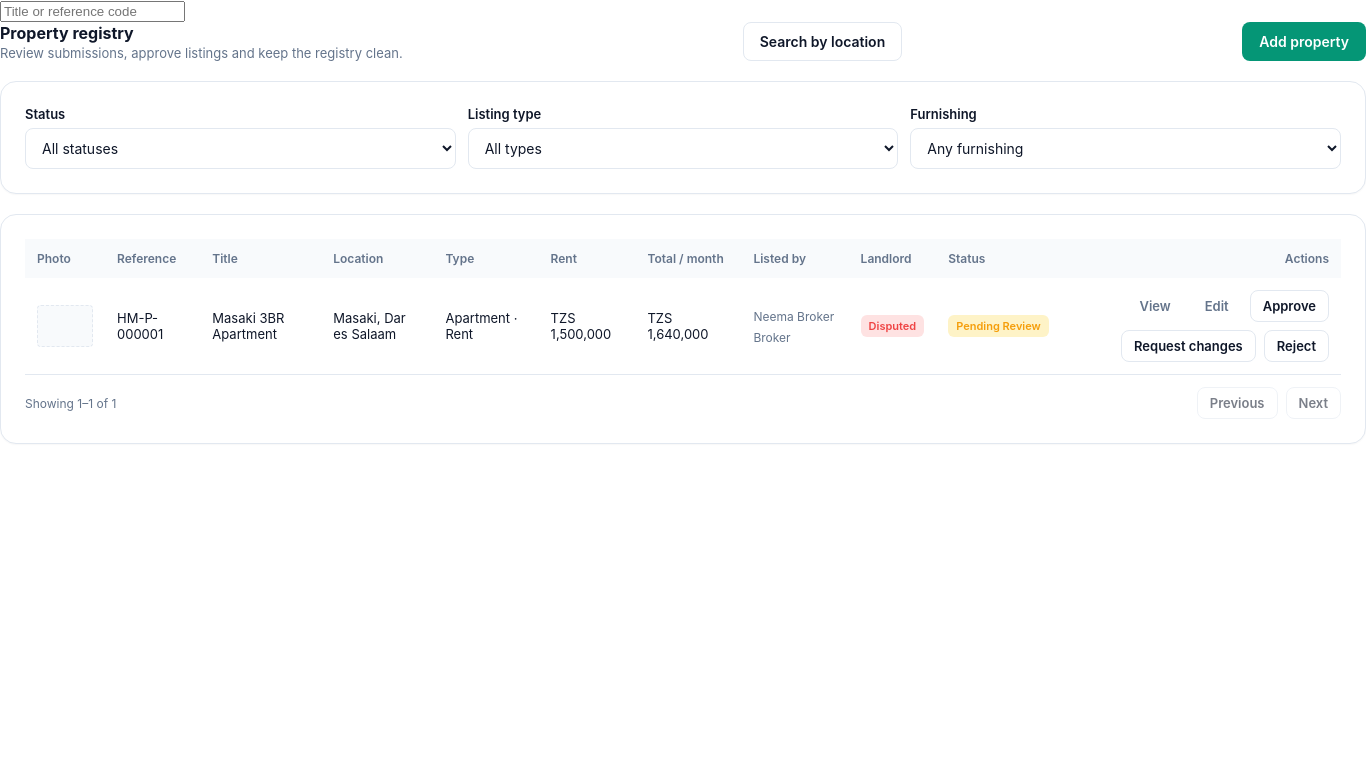
Scenario: PropertiesPage › surfaces a server-refused transition instead of pretending it worked
The image size is (1366, 768).
Check: the text "Masaki 3BR Apartment" is shown, box x1=200 y1=278 x2=321 y2=374
Click the button "Approve". click: [1289, 306]
box: x1=1250 y1=290 x2=1329 y2=322
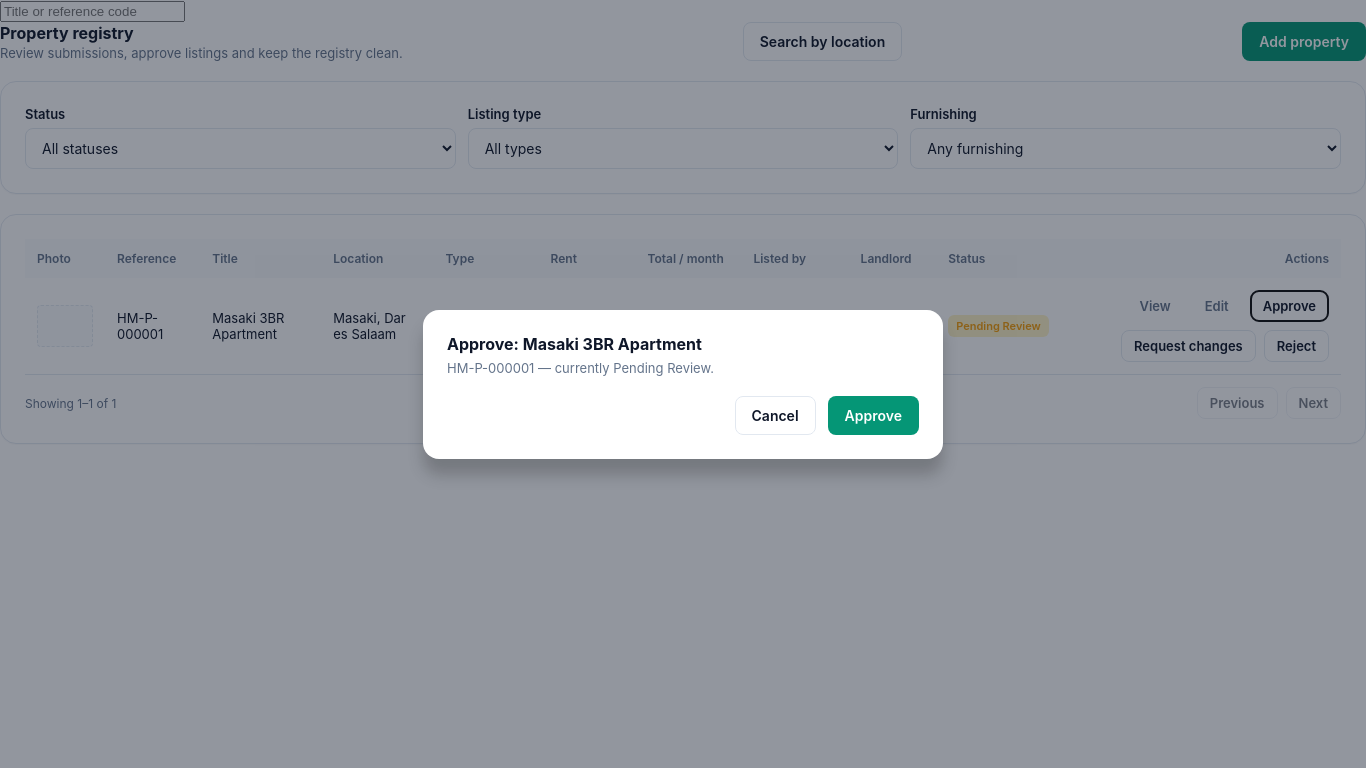
Click the button "Approve". click: [873, 415]
box: x1=828 y1=396 x2=919 y2=434
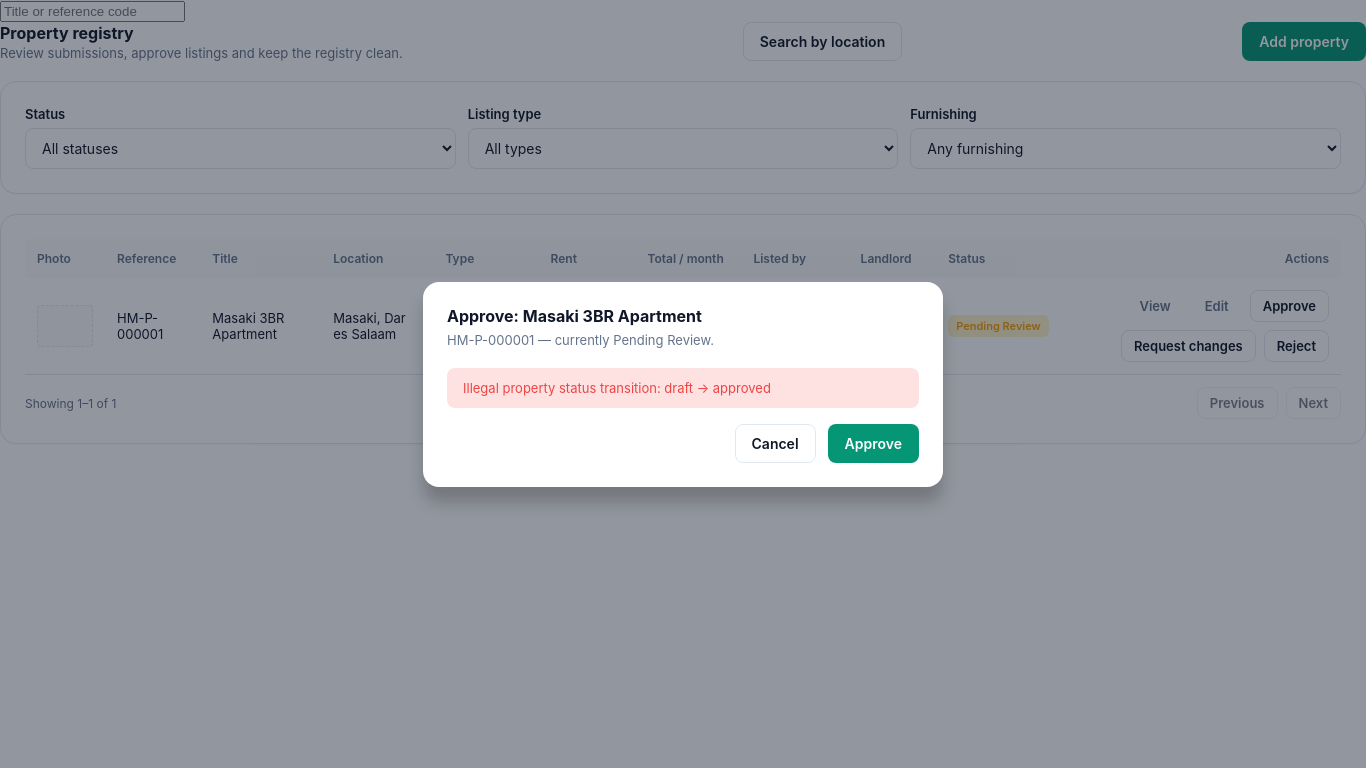
Check: the message shows "Illegal property status transition", box x1=463 y1=380 x2=771 y2=396
